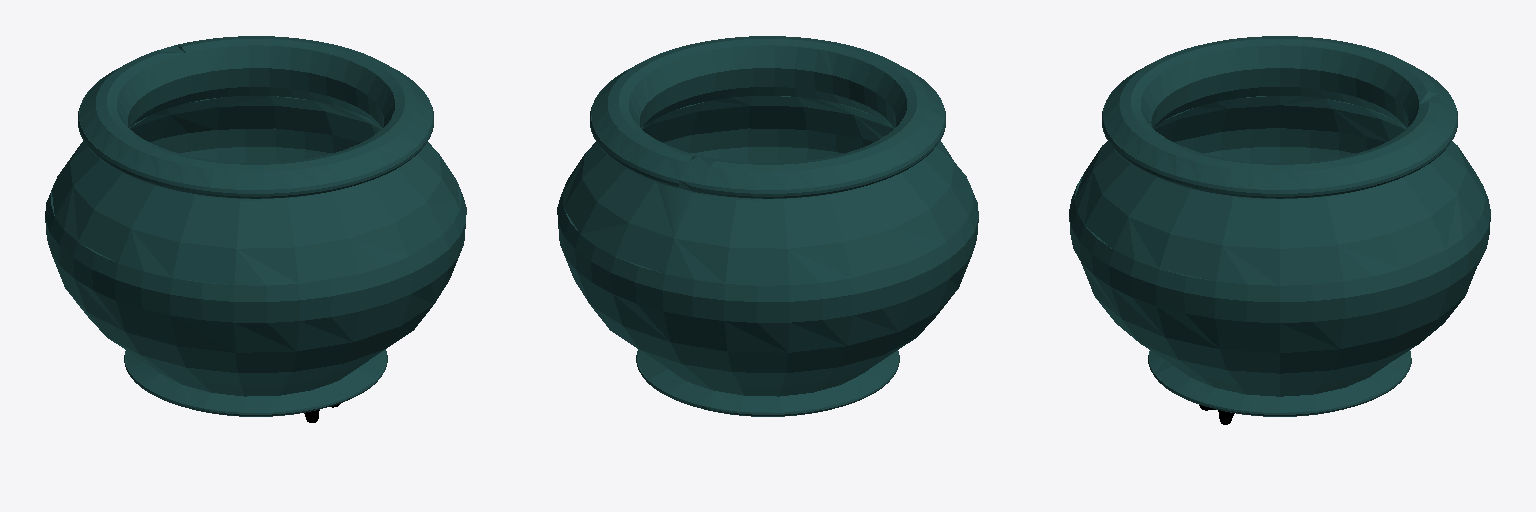
Rendered from oBJTry.obj.
3 renders of one model, left to right at view 1: azimuth 30°, elevation 25°; view 2: azimuth 150°, elevation 25°; view 3: azimuth 270°, elevation 25°, orthographic.
Visible parts, largest first — view 1: revolvedSurface1; view 2: revolvedSurface1; view 3: revolvedSurface1.
Part boxes in pixels (bbox=[...]): revolvedSurface1: bbox=[45, 36, 466, 416]; revolvedSurface1: bbox=[557, 36, 978, 416]; revolvedSurface1: bbox=[1069, 36, 1490, 416].
Bounding box in the file's own units: 17.72 × 14.28 × 17.73.